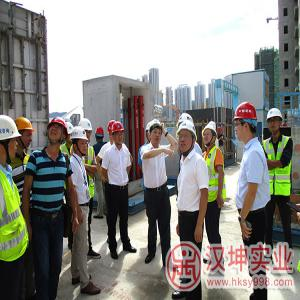red: (235, 103, 259, 143), (113, 121, 125, 146), (108, 121, 116, 142), (96, 127, 106, 142), (217, 126, 223, 136)
white: (2, 114, 19, 162), (178, 121, 198, 154), (72, 127, 89, 156), (203, 122, 220, 149), (267, 108, 284, 135), (148, 120, 164, 146), (79, 116, 93, 140), (66, 122, 74, 144)
yellow: (14, 116, 36, 150)
